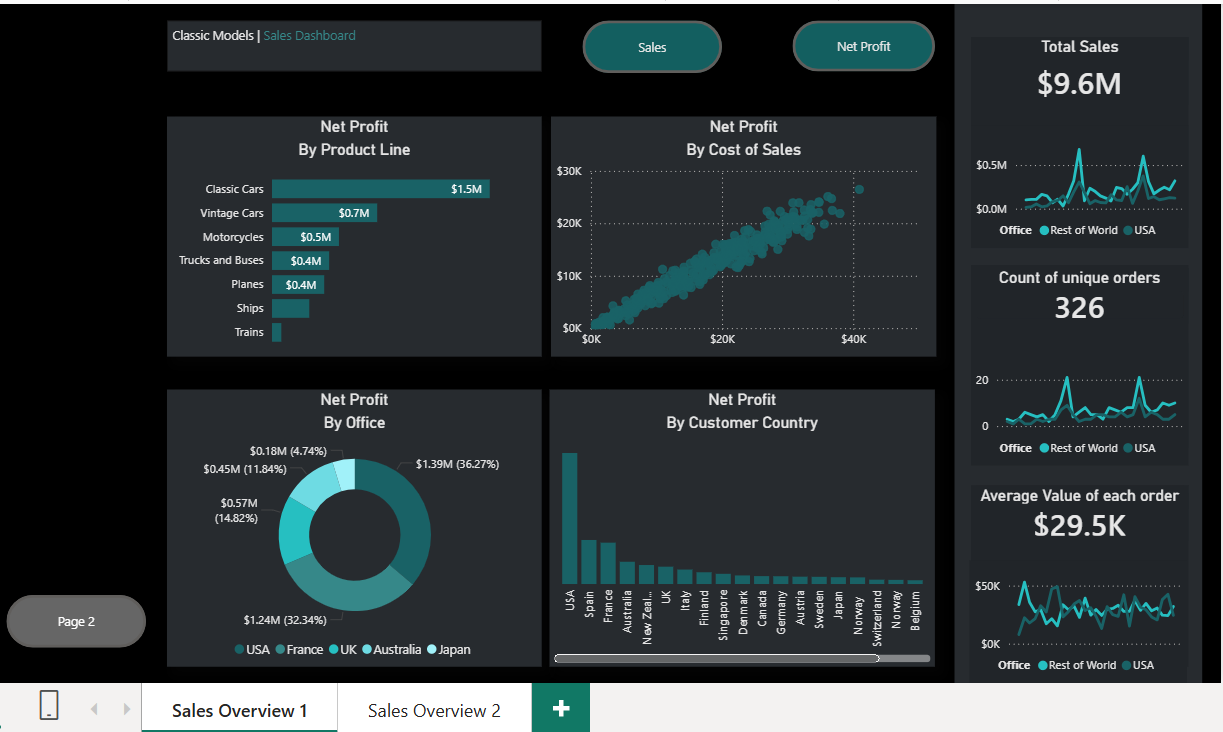

The page's visual inventory and layout, read from the dashboard file:
{"tool":"powerbi","page":{"name":"Sales Overview 1","canvas":[1300,720],"ordinal":0},"visuals":[{"type":"shape","box":[1016.7,0,262.7,720],"z":1000},{"type":"shape","box":[1034.2,35.3,230.9,202],"z":2000},{"type":"shape","box":[1034.2,277.4,230.9,194],"z":3000},{"type":"shape","box":[1034.2,517.9,230.9,184.4],"z":4000},{"type":"cardVisual","title":"Total Sales","fields":{"Data":["Sum(Sales Data for Power BI.sales_value)"]},"box":[1034.2,35.3,230.9,72.2],"z":5000},{"type":"cardVisual","title":"Average Value of each order","fields":{"Data":["Sales Data for Power BI.Average Sales value per order 1"]},"box":[1033.7,510.3,230.6,58.6],"z":6000},{"type":"cardVisual","title":"Count of unique orders","fields":{"Data":["Count(Sales Data for Power BI.ordernumber)"]},"box":[1033.7,279.6,230.6,58.6],"z":7000},{"type":"lineChart","fields":{"Y":["Sum(Sales Data for Power BI.sales_value)"],"Category":["Sales Data for Power BI.orderdate.Variation.Date Hierarchy.Year","Sales Data for Power BI.orderdate.Variation.Date Hierarchy.Quarter","Sales Data for Power BI.orderdate.Variation.Date Hierarchy.Month"],"Series":["Sales Data for Power BI.Office Groups"]},"box":[1034.2,128.6,230.9,129.9],"z":8000},{"type":"lineChart","fields":{"Category":["Sales Data for Power BI.orderdate.Variation.Date Hierarchy.Year","Sales Data for Power BI.orderdate.Variation.Date Hierarchy.Quarter","Sales Data for Power BI.orderdate.Variation.Date Hierarchy.Month"],"Series":["Sales Data for Power BI.Office Groups"],"Y":["Count(Sales Data for Power BI.ordernumber)"]},"box":[1034.2,359.3,230.9,129.9],"z":9000},{"type":"lineChart","fields":{"Category":["Sales Data for Power BI.orderdate.Variation.Date Hierarchy.Year","Sales Data for Power BI.orderdate.Variation.Date Hierarchy.Quarter","Sales Data for Power BI.orderdate.Variation.Date Hierarchy.Month"],"Series":["Sales Data for Power BI.Office Groups"],"Y":["Sales Data for Power BI.Average Sales value per order 1"]},"box":[1032.6,590,230.9,129.9],"z":10000},{"type":"clusteredBarChart","fields":{"Category":["Sales Data for Power BI.productLine"],"Y":["Table.Selected Metric"]},"box":[181.3,119.3,397.7,254.5],"z":11000},{"type":"actionButton","box":[844.6,17.5,151.1,54.1],"z":12000},{"type":"scatterChart","fields":{"Y":["Table.Selected Metric"],"X":["Sum(Sales Data for Power BI.cost_of_sales)"],"Category":["Sales Data for Power BI.ordernumber"]},"box":[588.5,119.3,408.8,254.5],"z":14000},{"type":"donutChart","fields":{"Y":["Table.Selected Metric"],"Category":["Sales Data for Power BI.office_country"]},"box":[181.3,408.8,397.7,294.3],"z":15000},{"type":"columnChart","fields":{"Y":["Table.Selected Metric"],"Category":["Sales Data for Power BI.customer_country"]},"box":[586.9,408.8,408.8,294.3],"z":16000},{"type":"textbox","box":[181.3,17.5,397.7,54.1],"z":17000},{"type":"actionButton","box":[621.9,17.5,147.9,55.7],"z":18000},{"type":"actionButton","box":[11.1,626.7,147.9,55.7],"z":19000}]}

Visuals, with their boxes on the page's 1300x720 design canvas (x1, y1, x2, y2). These are canvas units, not pixel positions in the 1223x732 screenshot, which may show the page scaled, cropped or inside an application window:
shape: left=1017, top=0, right=1279, bottom=720
shape: left=1034, top=35, right=1265, bottom=237
shape: left=1034, top=277, right=1265, bottom=471
shape: left=1034, top=518, right=1265, bottom=702
"Total Sales" cardVisual: left=1034, top=35, right=1265, bottom=108
"Average Value of each order" cardVisual: left=1034, top=510, right=1264, bottom=569
"Count of unique orders" cardVisual: left=1034, top=280, right=1264, bottom=338
lineChart - Sum(Sales Data for Power BI.sales_value) x Sales Data for Power BI.orderdate.Variation.Date Hierarchy.Year: left=1034, top=129, right=1265, bottom=258
lineChart - Sales Data for Power BI.orderdate.Variation.Date Hierarchy.Year x Sales Data for Power BI.orderdate.Variation.Date Hierarchy.Quarter: left=1034, top=359, right=1265, bottom=489
lineChart - Sales Data for Power BI.orderdate.Variation.Date Hierarchy.Year x Sales Data for Power BI.orderdate.Variation.Date Hierarchy.Quarter: left=1033, top=590, right=1264, bottom=720
clusteredBarChart - Sales Data for Power BI.productLine x Table.Selected Metric: left=181, top=119, right=579, bottom=374
actionButton: left=845, top=18, right=996, bottom=72
scatterChart - Table.Selected Metric x Sum(Sales Data for Power BI.cost_of_sales): left=588, top=119, right=997, bottom=374
donutChart - Table.Selected Metric x Sales Data for Power BI.office_country: left=181, top=409, right=579, bottom=703
columnChart - Table.Selected Metric x Sales Data for Power BI.customer_country: left=587, top=409, right=996, bottom=703
textbox: left=181, top=18, right=579, bottom=72
actionButton: left=622, top=18, right=770, bottom=73
actionButton: left=11, top=627, right=159, bottom=682
